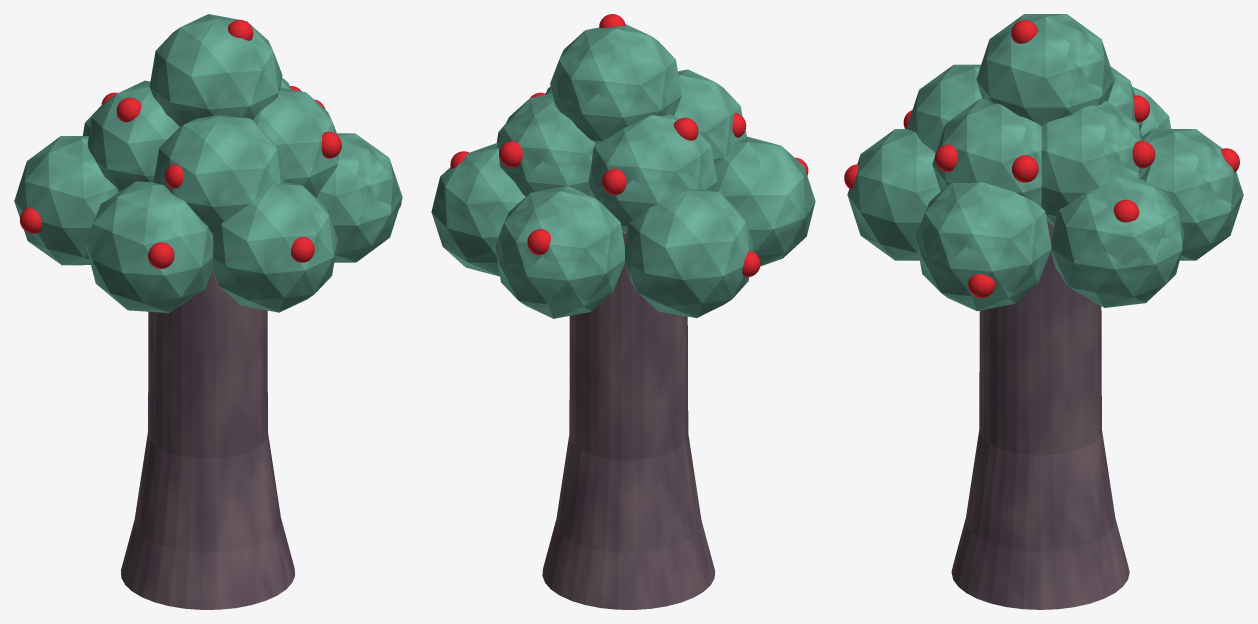
The model's file is tree2.gltf.
3 renders of one model, left to right at view 1: azimuth 30°, elevation 25°; view 2: azimuth 150°, elevation 25°; view 3: azimuth 270°, elevation 25°, orthographic. The views are drawn at different scales.
Parts seen in each view (by area): view 1: Leaves.001, trunk.001, Sphere.014; view 2: Leaves.001, trunk.001, Sphere.011, Sphere.004; view 3: Leaves.001, trunk.001, Sphere.006.
Boxes of the visible parts, box(x1,y1,x2,y2) form: Leaves.001: box(14, 14, 402, 312); trunk.001: box(121, 271, 294, 609); Sphere.014: box(148, 242, 174, 268); Leaves.001: box(431, 24, 815, 318); trunk.001: box(542, 232, 715, 609); Sphere.011: box(602, 168, 626, 195); Sphere.004: box(499, 141, 522, 167); Leaves.001: box(847, 14, 1243, 311); trunk.001: box(951, 221, 1129, 609); Sphere.006: box(1012, 155, 1038, 182).
Size of the model in its own units: 6.28 by 10.29 by 6.62.
3 materials, 2 textured.
